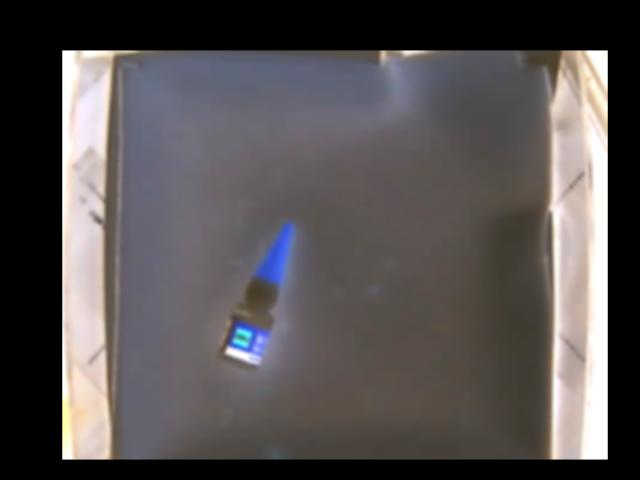Bottle: (219, 222, 295, 371)
